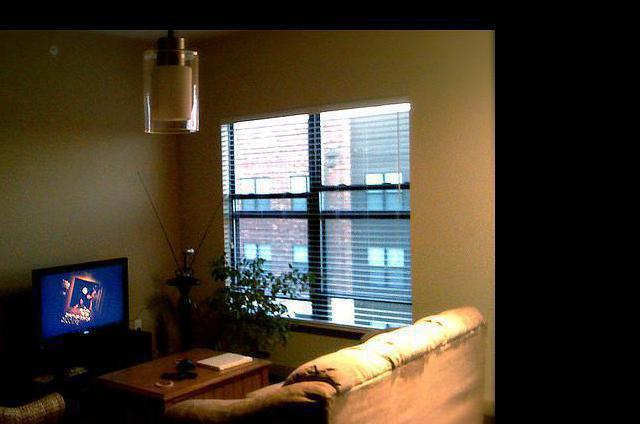Matera: (197, 249, 298, 384)
